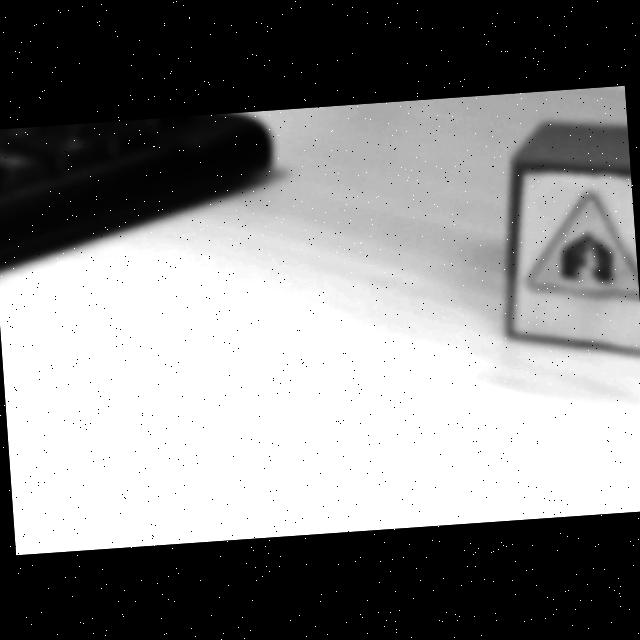Earthquake: (522, 194, 639, 304), (528, 192, 639, 299)
